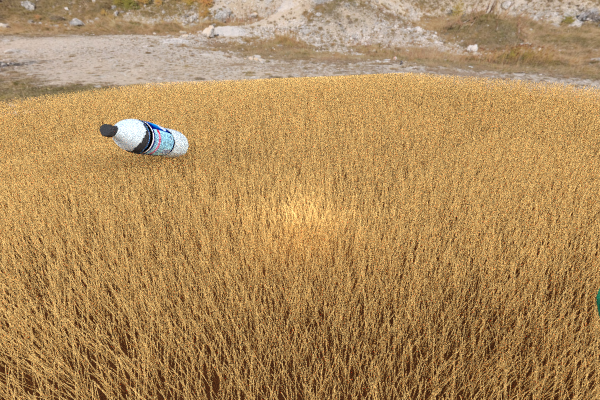bottle: (99, 118, 188, 157)
can: (596, 262, 600, 400)
